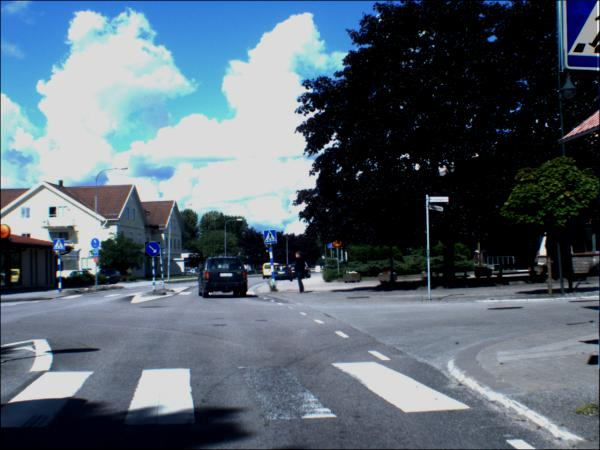50_SIGN: (333, 237, 345, 249)
PASS_RIGHT_SIDE: (146, 243, 162, 258)
PEDESTRIAN_CROSSING: (562, 2, 600, 73), (265, 232, 278, 246), (55, 240, 65, 252)
